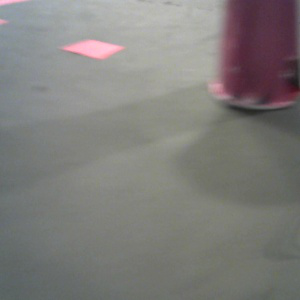right: (207, 1, 300, 114)
